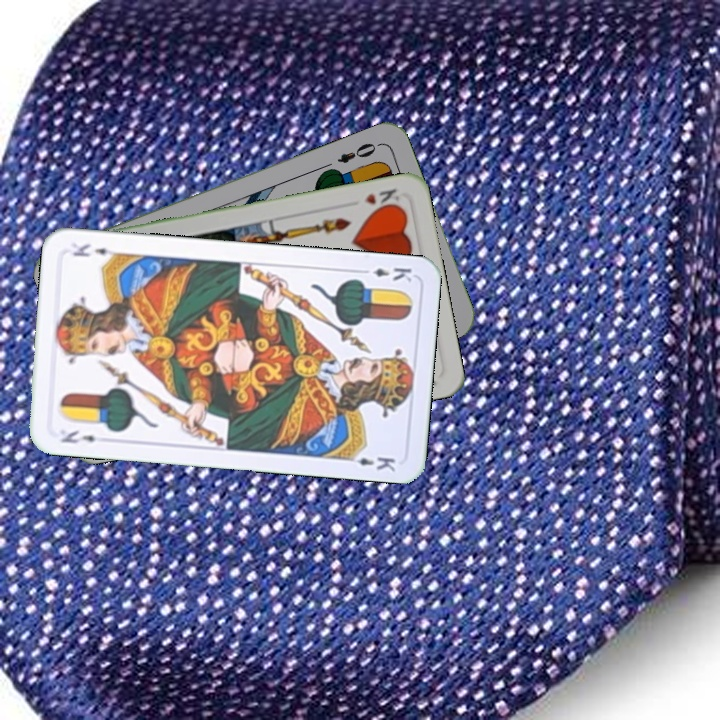EK: (356, 263, 415, 284), (57, 426, 98, 446)
EO: (333, 139, 383, 166)
HK: (360, 184, 403, 214)
